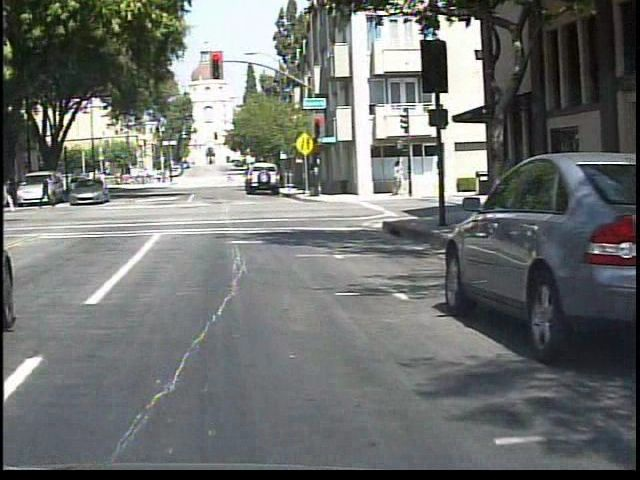person: (37, 171, 53, 212), (220, 171, 235, 188)
